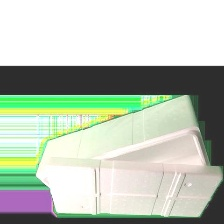foam_box: (32, 91, 224, 224)
